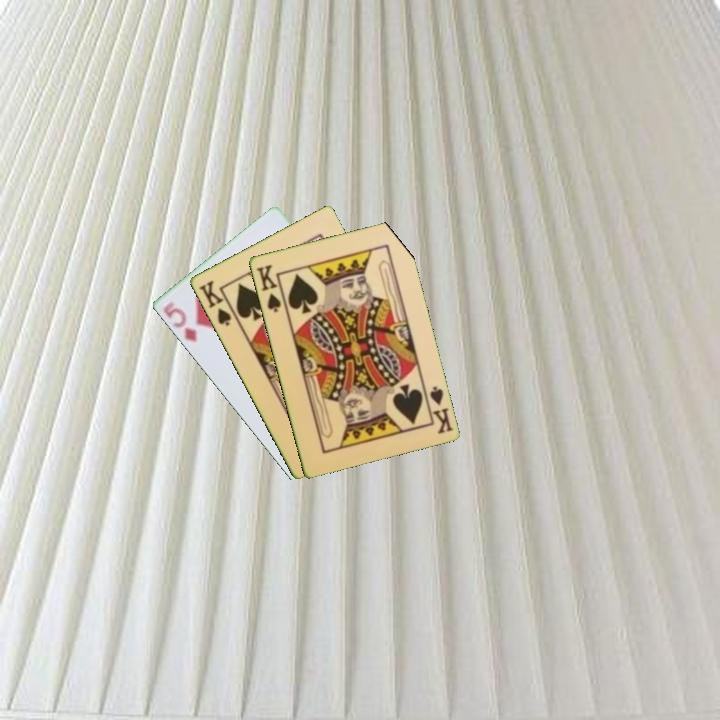5d: (159, 298, 200, 345)
Ks: (195, 277, 234, 329), (420, 382, 456, 437), (252, 261, 283, 315)
